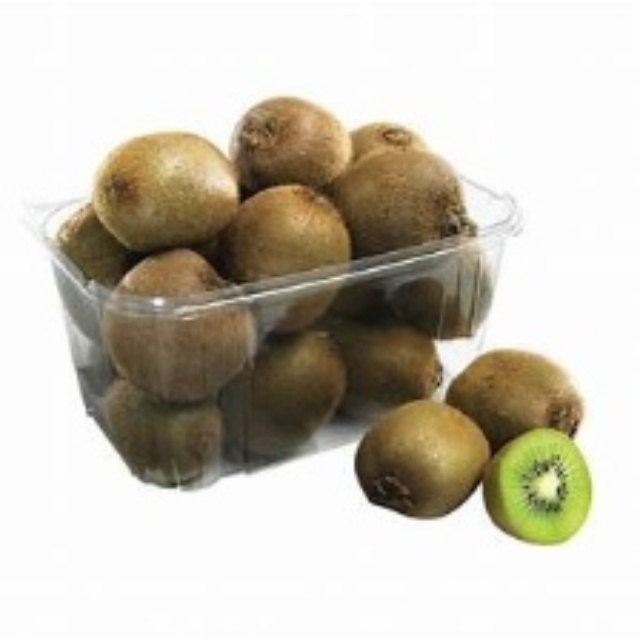kiwi: (378, 322, 613, 559), (87, 253, 258, 399), (215, 188, 354, 323), (340, 137, 477, 254), (115, 126, 237, 247), (225, 335, 343, 460), (220, 90, 354, 196)
